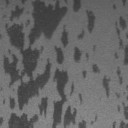red iron: (0, 0, 128, 128), (110, 0, 126, 10)
